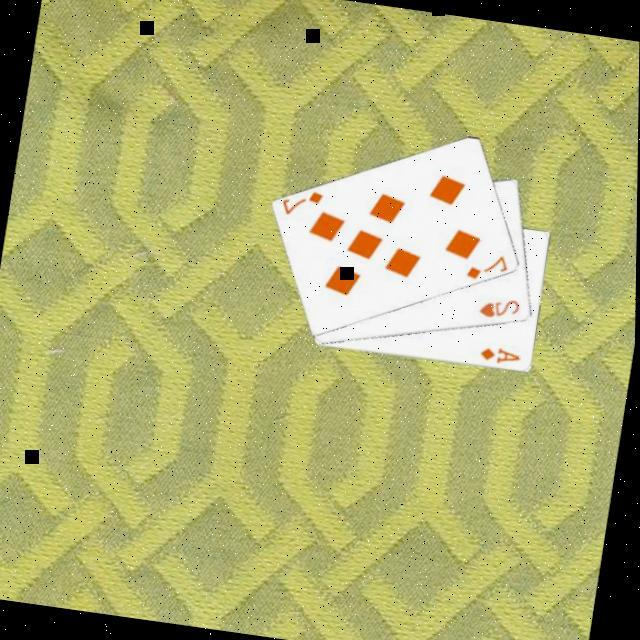2H: (474, 294, 523, 328)
7D: (462, 250, 511, 288), (278, 187, 327, 225)
AD: (476, 344, 524, 371)
